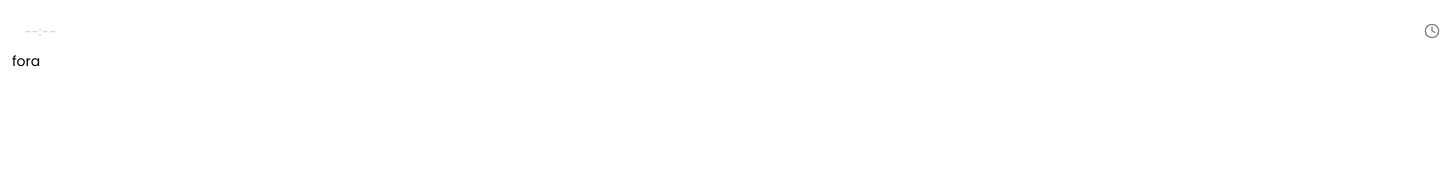
TimePicker › digitar 2200 vira 22:00 sem esperar sair do campo
Type "2200" into the field named "Início".
click(714, 31); type("2200")  # box [12,12,1417,50]
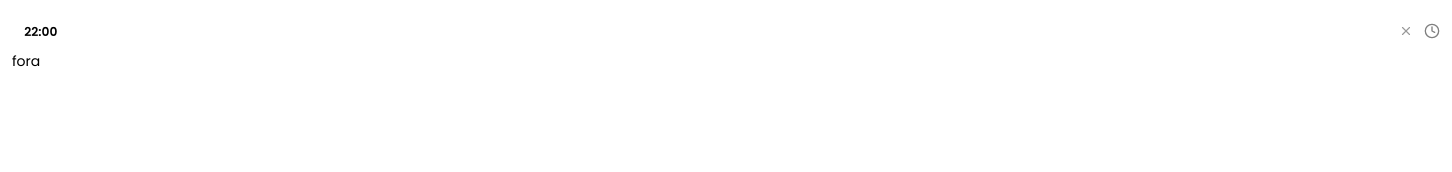
Result: the field named "Início" holds "22:00" at [12,12,1396,50]
